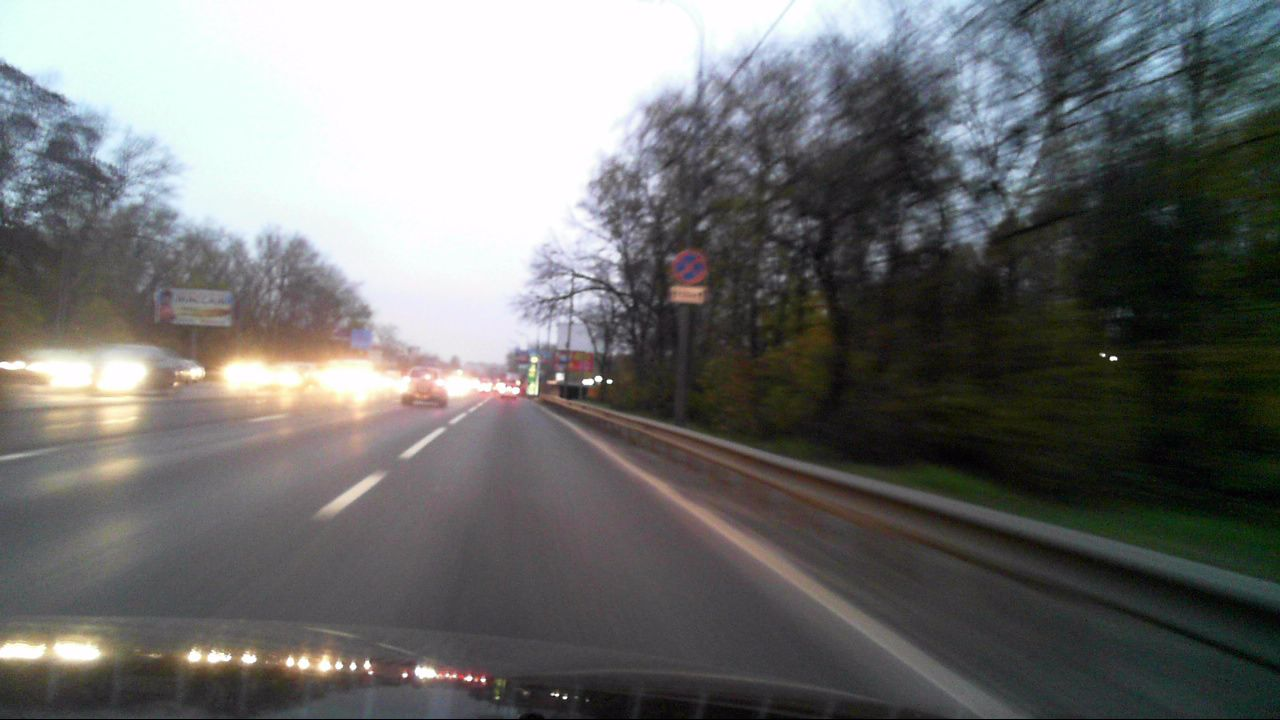No Parking: (671, 249, 705, 283)
